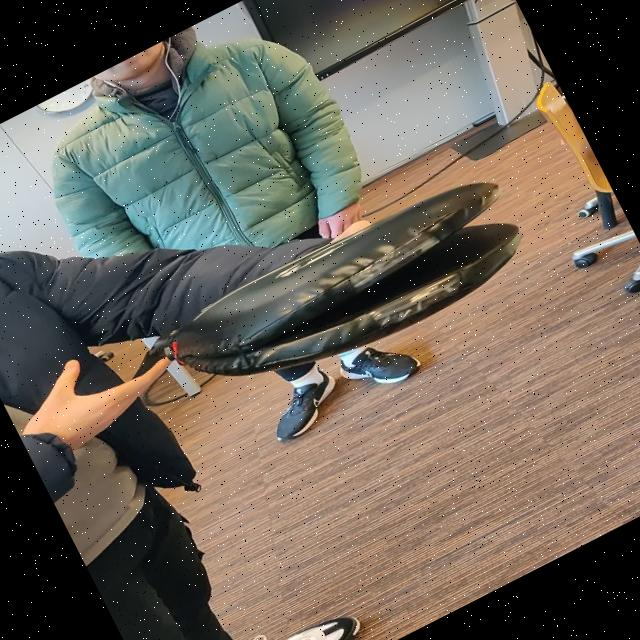paddle: (147, 181, 525, 377)
